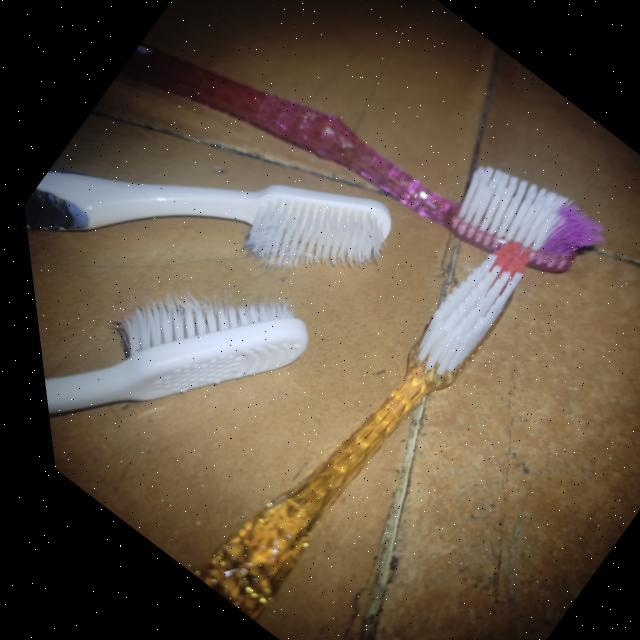toothbrush: (169, 226, 539, 624), (104, 36, 600, 286), (33, 274, 315, 434), (19, 168, 401, 276)
